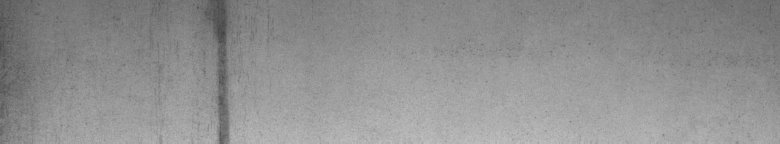hd: (197, 4, 241, 136)
